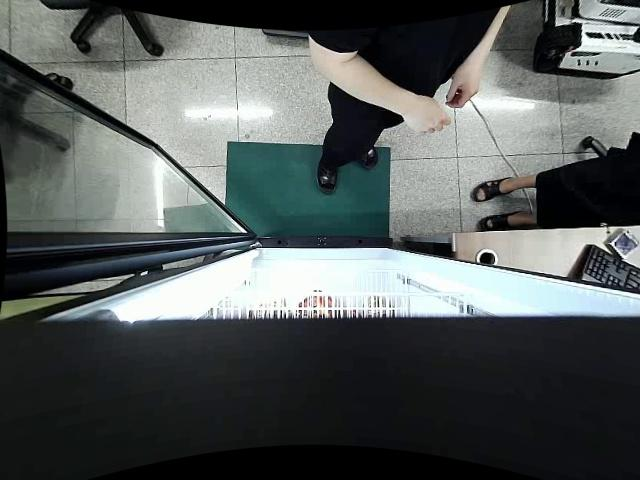00_hand: (405, 94, 453, 134), (444, 63, 481, 109)
